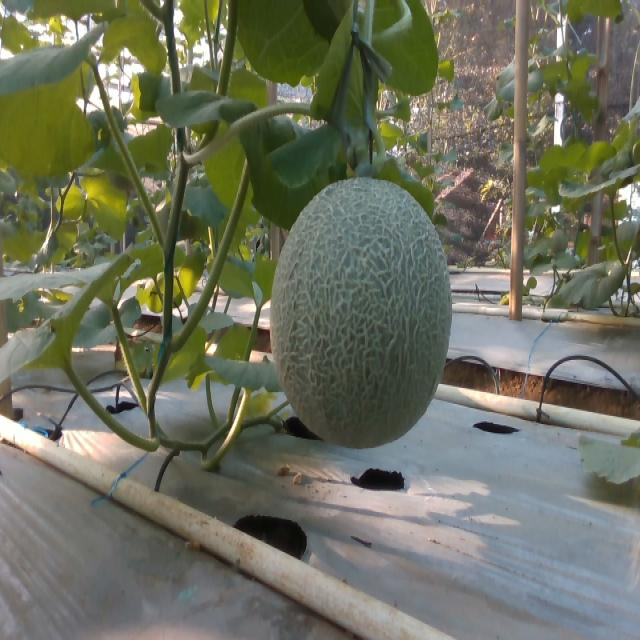melon: (271, 177, 453, 449)
